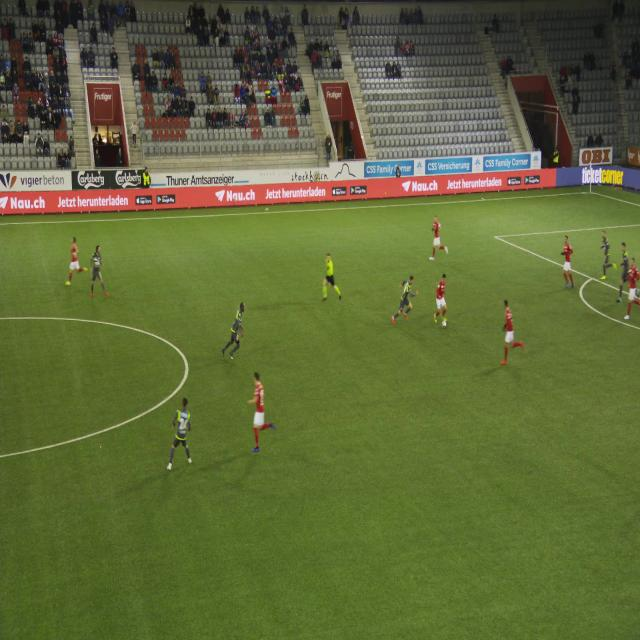Ball: (442, 314, 448, 337)
Player: (242, 364, 276, 462), (163, 392, 200, 478), (215, 288, 250, 366), (495, 291, 526, 371), (386, 266, 421, 329), (425, 209, 454, 271), (62, 229, 88, 293), (88, 240, 110, 312), (556, 232, 578, 292), (625, 246, 640, 333), (432, 272, 451, 325), (595, 224, 613, 274), (618, 233, 628, 300)
Referee: (318, 249, 350, 314)
